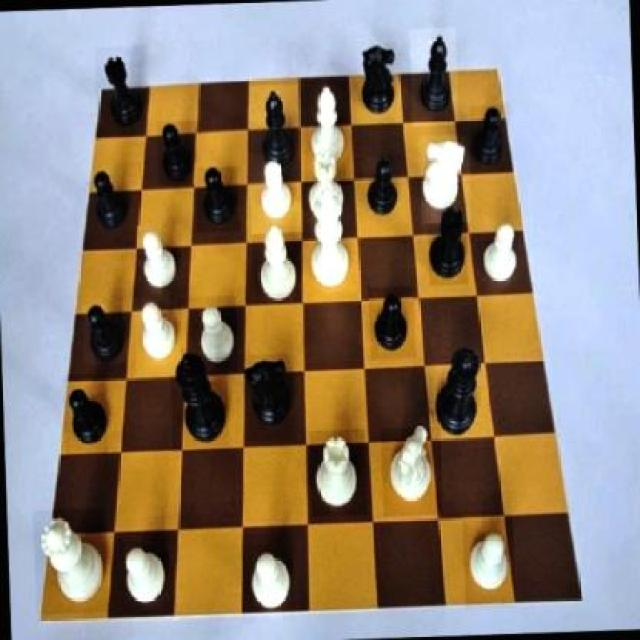bishop: (250, 84, 302, 186), (409, 28, 458, 125)
black-bishop: (169, 348, 230, 454)
black-king: (243, 354, 297, 441), (354, 36, 401, 126)
black-knight: (83, 162, 139, 239), (360, 143, 406, 225), (63, 374, 108, 454), (368, 286, 414, 360), (469, 104, 512, 176), (196, 166, 240, 232), (81, 303, 128, 364), (157, 120, 199, 185)
black-pawn: (431, 340, 486, 449)
black-queen: (95, 45, 151, 137), (426, 203, 469, 286)
black-rook: (305, 80, 352, 177), (252, 220, 303, 307)
white-bishop: (303, 186, 355, 294)
white-king: (380, 426, 442, 517), (418, 134, 472, 224)
white-knight: (119, 517, 170, 618), (242, 532, 296, 623), (462, 518, 514, 610), (248, 151, 304, 234), (477, 206, 525, 296), (132, 295, 180, 378), (137, 224, 188, 300), (188, 296, 238, 372)
white-pawn: (32, 508, 108, 614)
white-queen: (309, 429, 367, 517), (304, 148, 352, 228)
